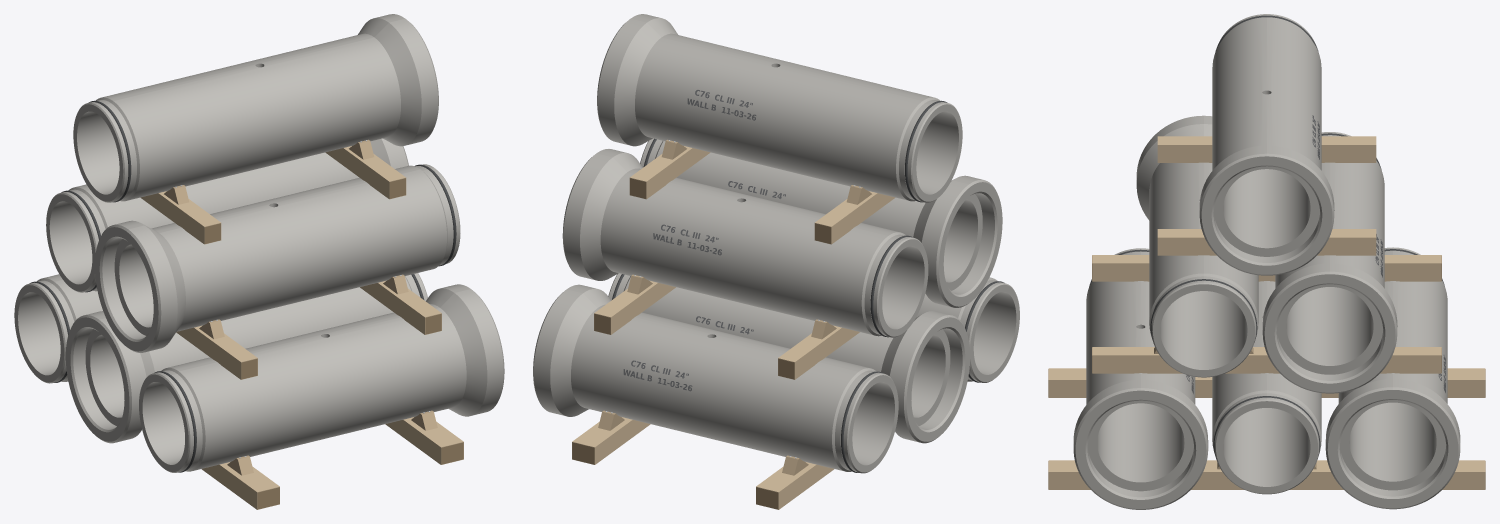
File: Concrete_Pipe_Stack_24in.glb
3 views of the same model, side by side, from view 1: azimuth 30°, elevation 25°; view 2: azimuth 150°, elevation 25°; view 3: azimuth 270°, elevation 25° (orthographic). The views are drawn at different scales.
Visible parts, largest first — view 1: pipe_3a, pipe_2a, pipe_1a, pipe_1b, pipe_2b, dunnage, pipe_1c, skids, wedge_chocks, timber_end_grain; view 2: pipe_3a, pipe_2b, pipe_1c, pipe_2a, pipe_1b, dunnage, pipe_1a, skids, wedge_chocks, timber_end_grain; view 3: pipe_3a, pipe_1a, pipe_2b, pipe_1c, pipe_2a, dunnage, pipe_1b, skids.
Part boxes in pixels (<box>): pipe_3a: <box>73,14,438,202</box>; pipe_2a: <box>95,164,460,352</box>; pipe_1a: <box>139,284,504,472</box>; pipe_1b: <box>65,273,427,443</box>; pipe_2b: <box>46,138,408,292</box>; dunnage: <box>140,146,441,379</box>; pipe_1c: <box>14,274,102,383</box>; skids: <box>201,417,463,509</box>; wedge_chocks: <box>164,139,437,475</box>; timber_end_grain: <box>204,178,463,509</box>; pipe_3a: <box>597,14,962,202</box>; pipe_2b: <box>562,149,928,337</box>; pipe_1c: <box>533,284,898,473</box>; pipe_2a: <box>640,138,1002,307</box>; pipe_1b: <box>608,273,970,443</box>; dunnage: <box>594,146,895,379</box>; pipe_1a: <box>916,277,1019,382</box>; skids: <box>572,417,834,509</box>; wedge_chocks: <box>598,139,871,475</box>; timber_end_grain: <box>572,178,831,509</box>; pipe_3a: <box>1199,14,1334,275</box>; pipe_1a: <box>1073,248,1208,509</box>; pipe_2b: <box>1262,132,1397,393</box>; pipe_1c: <box>1325,247,1460,509</box>; pipe_2a: <box>1136,115,1258,377</box>; dunnage: <box>1092,136,1441,373</box>; pipe_1b: <box>1212,281,1321,494</box>; skids: <box>1048,368,1485,489</box>.
Size of the model in its own units: 2.61 by 2.78 by 3.05.
